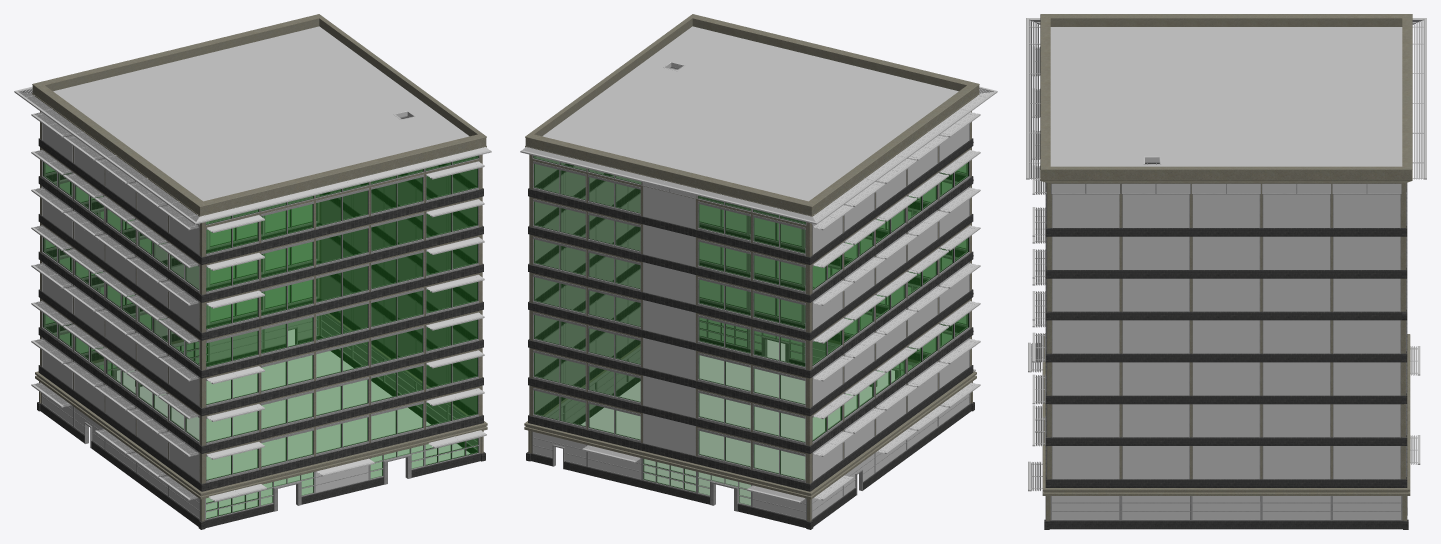
Rendered from Building03_V2.fbx.
3 renders of one model, left to right at view 1: azimuth 30°, elevation 25°; view 2: azimuth 150°, elevation 25°; view 3: azimuth 270°, elevation 25°, orthographic. The views are drawn at different scales.
Visible parts, largest first — view 1: SM_Building03_V2; view 2: SM_Building03_V2; view 3: SM_Building03_V2.
Boxes of the visible parts, <box> form: SM_Building03_V2: <box>14,14,491,529</box>; SM_Building03_V2: <box>520,14,997,529</box>; SM_Building03_V2: <box>1026,14,1426,529</box>.
Bounding box in the file's own units: 3370 × 3488 × 3516.
